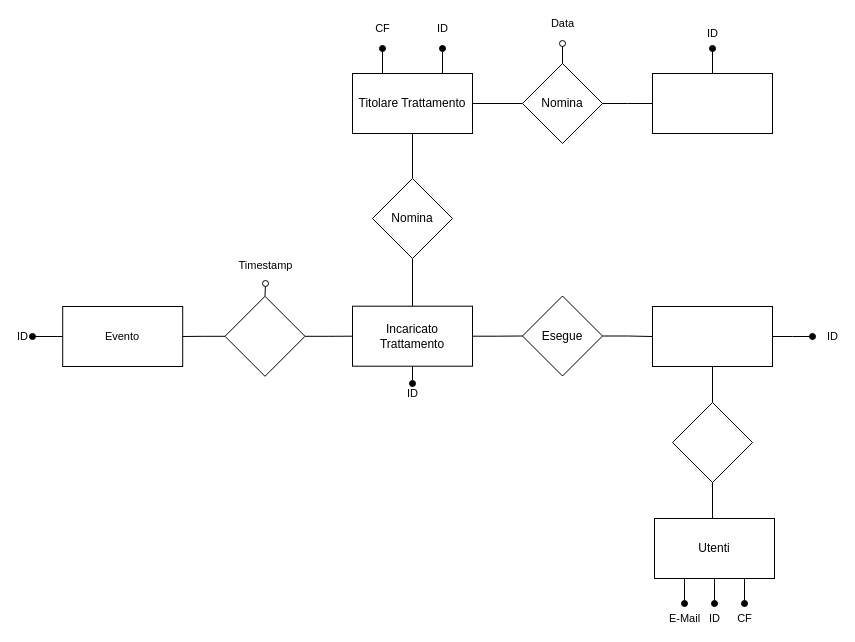
Some shapes in this 855 by 642 pixel diagram are drawn without their labels. Here are the shapes that lost their labels. From the top down, the box of each, then its label:
(652, 72, 772, 134): Responsabile Trattamento
(224, 295, 305, 376): Inserisce
(652, 306, 772, 366): Trattamento
(672, 402, 752, 482): Riguarda
